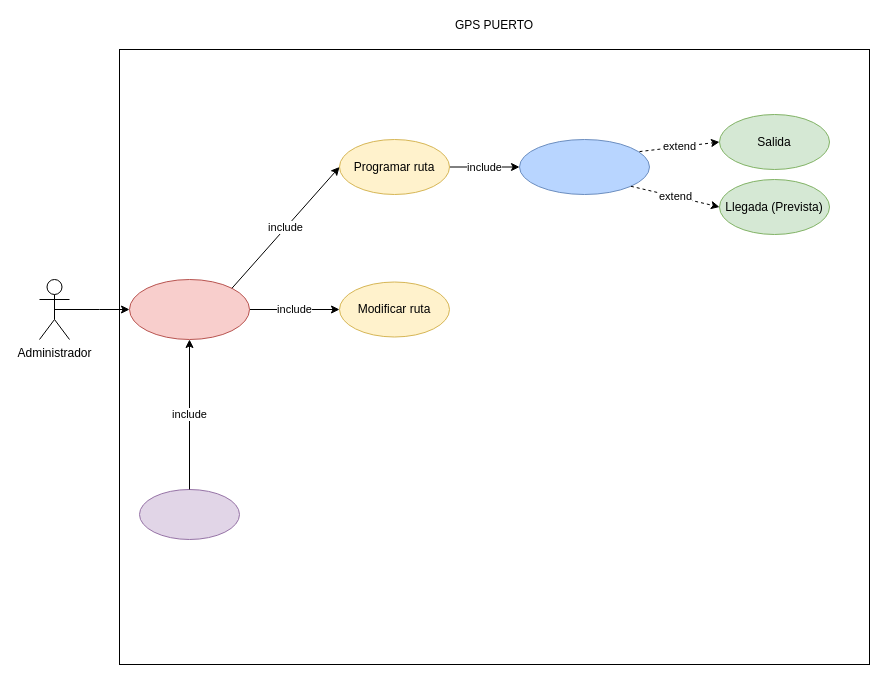
Image size: 887x682. Some labels were removed from this diagram. The box of each missing label's shape, as (x1, y1, x2, y2) in pixels:
Fecha/Hora: (518, 138, 650, 194)
Registrar camiones: (138, 488, 240, 540)
Supervisar camiones/furgonetas: (128, 278, 250, 340)
